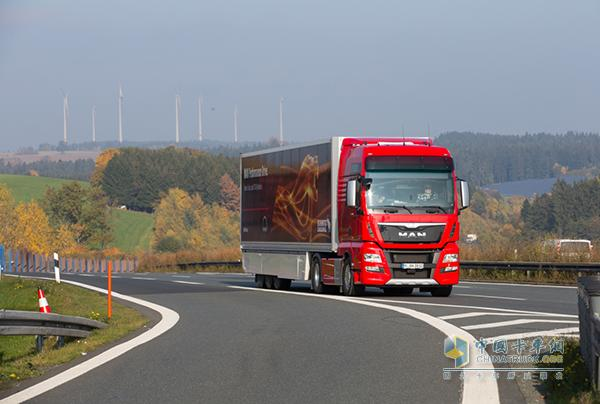truck: (231, 134, 471, 294)
